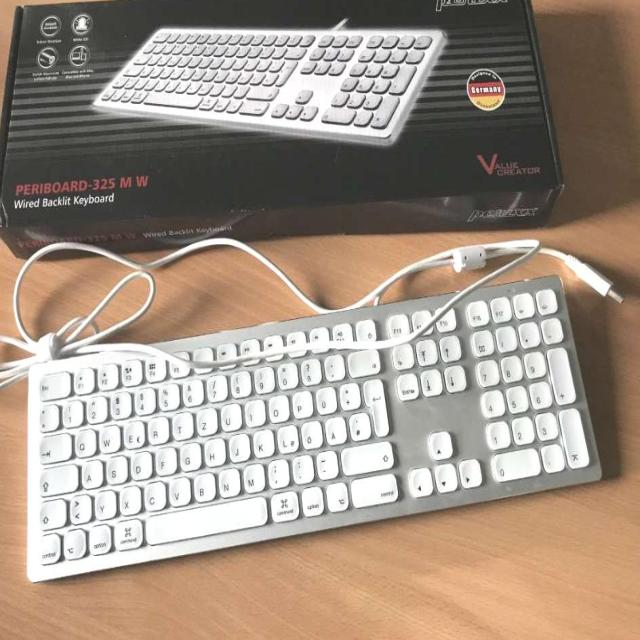0: (276, 360, 297, 387)
1: (61, 396, 82, 425)
2: (84, 393, 106, 421)
3: (108, 388, 130, 416)
4: (132, 384, 154, 411)
5: (156, 381, 178, 408)
6: (180, 376, 202, 403)
7: (205, 372, 226, 400)
8: (229, 368, 250, 395)
9: (252, 365, 273, 391)
a: (80, 457, 101, 487)
accent: (322, 352, 343, 378)
ae: (323, 414, 345, 443)
alt-left: (63, 528, 86, 559)
altgr-right: (325, 481, 348, 512)
b: (192, 469, 214, 499)
c: (142, 478, 165, 508)
caret: (36, 402, 58, 430)
comma: (266, 457, 287, 486)
d: (129, 448, 150, 478)
del: (346, 346, 379, 375)
e: (121, 417, 143, 446)
enter: (361, 375, 387, 434)
f: (153, 443, 175, 473)
g: (179, 440, 200, 469)
h: (203, 435, 224, 465)
hash: (347, 411, 370, 439)
i: (243, 396, 264, 424)
j: (227, 430, 248, 459)
k: (252, 426, 273, 456)
keyboard: (14, 270, 607, 586)
l: (276, 422, 298, 450)
less: (68, 490, 89, 521)
m: (241, 460, 264, 491)
minus: (314, 449, 336, 477)
n: (216, 465, 239, 495)
o: (267, 393, 288, 420)
oe: (300, 418, 321, 447)
p: (291, 388, 311, 416)
plus: (338, 380, 359, 408)
point: (290, 452, 312, 481)
q: (72, 425, 95, 455)
r: (147, 413, 168, 442)
s: (105, 452, 126, 482)
shift-left: (37, 495, 65, 528)
shift-lock: (38, 461, 77, 494)
shift-right: (339, 437, 393, 473)
space: (145, 494, 267, 546)
ss: (299, 357, 320, 383)
strg-left: (34, 532, 64, 564)
strg-right: (350, 471, 399, 504)
t: (170, 409, 191, 438)
tab: (37, 429, 70, 461)
u: (219, 400, 240, 429)
ue: (314, 383, 335, 412)
v: (168, 474, 189, 504)
w: (97, 421, 119, 450)
x: (118, 483, 140, 513)
y: (93, 486, 114, 517)
z: (195, 404, 216, 433)
